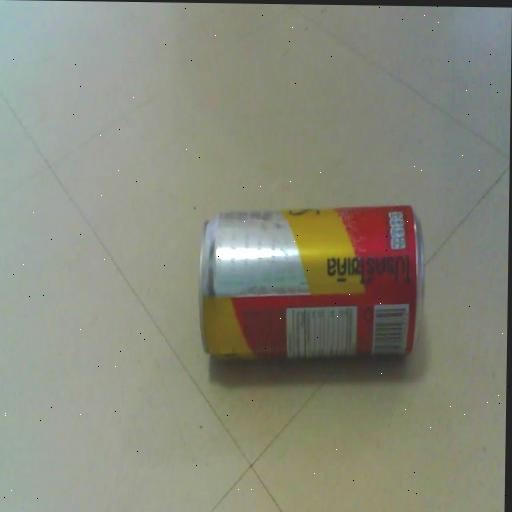canned: (181, 185, 436, 383)
